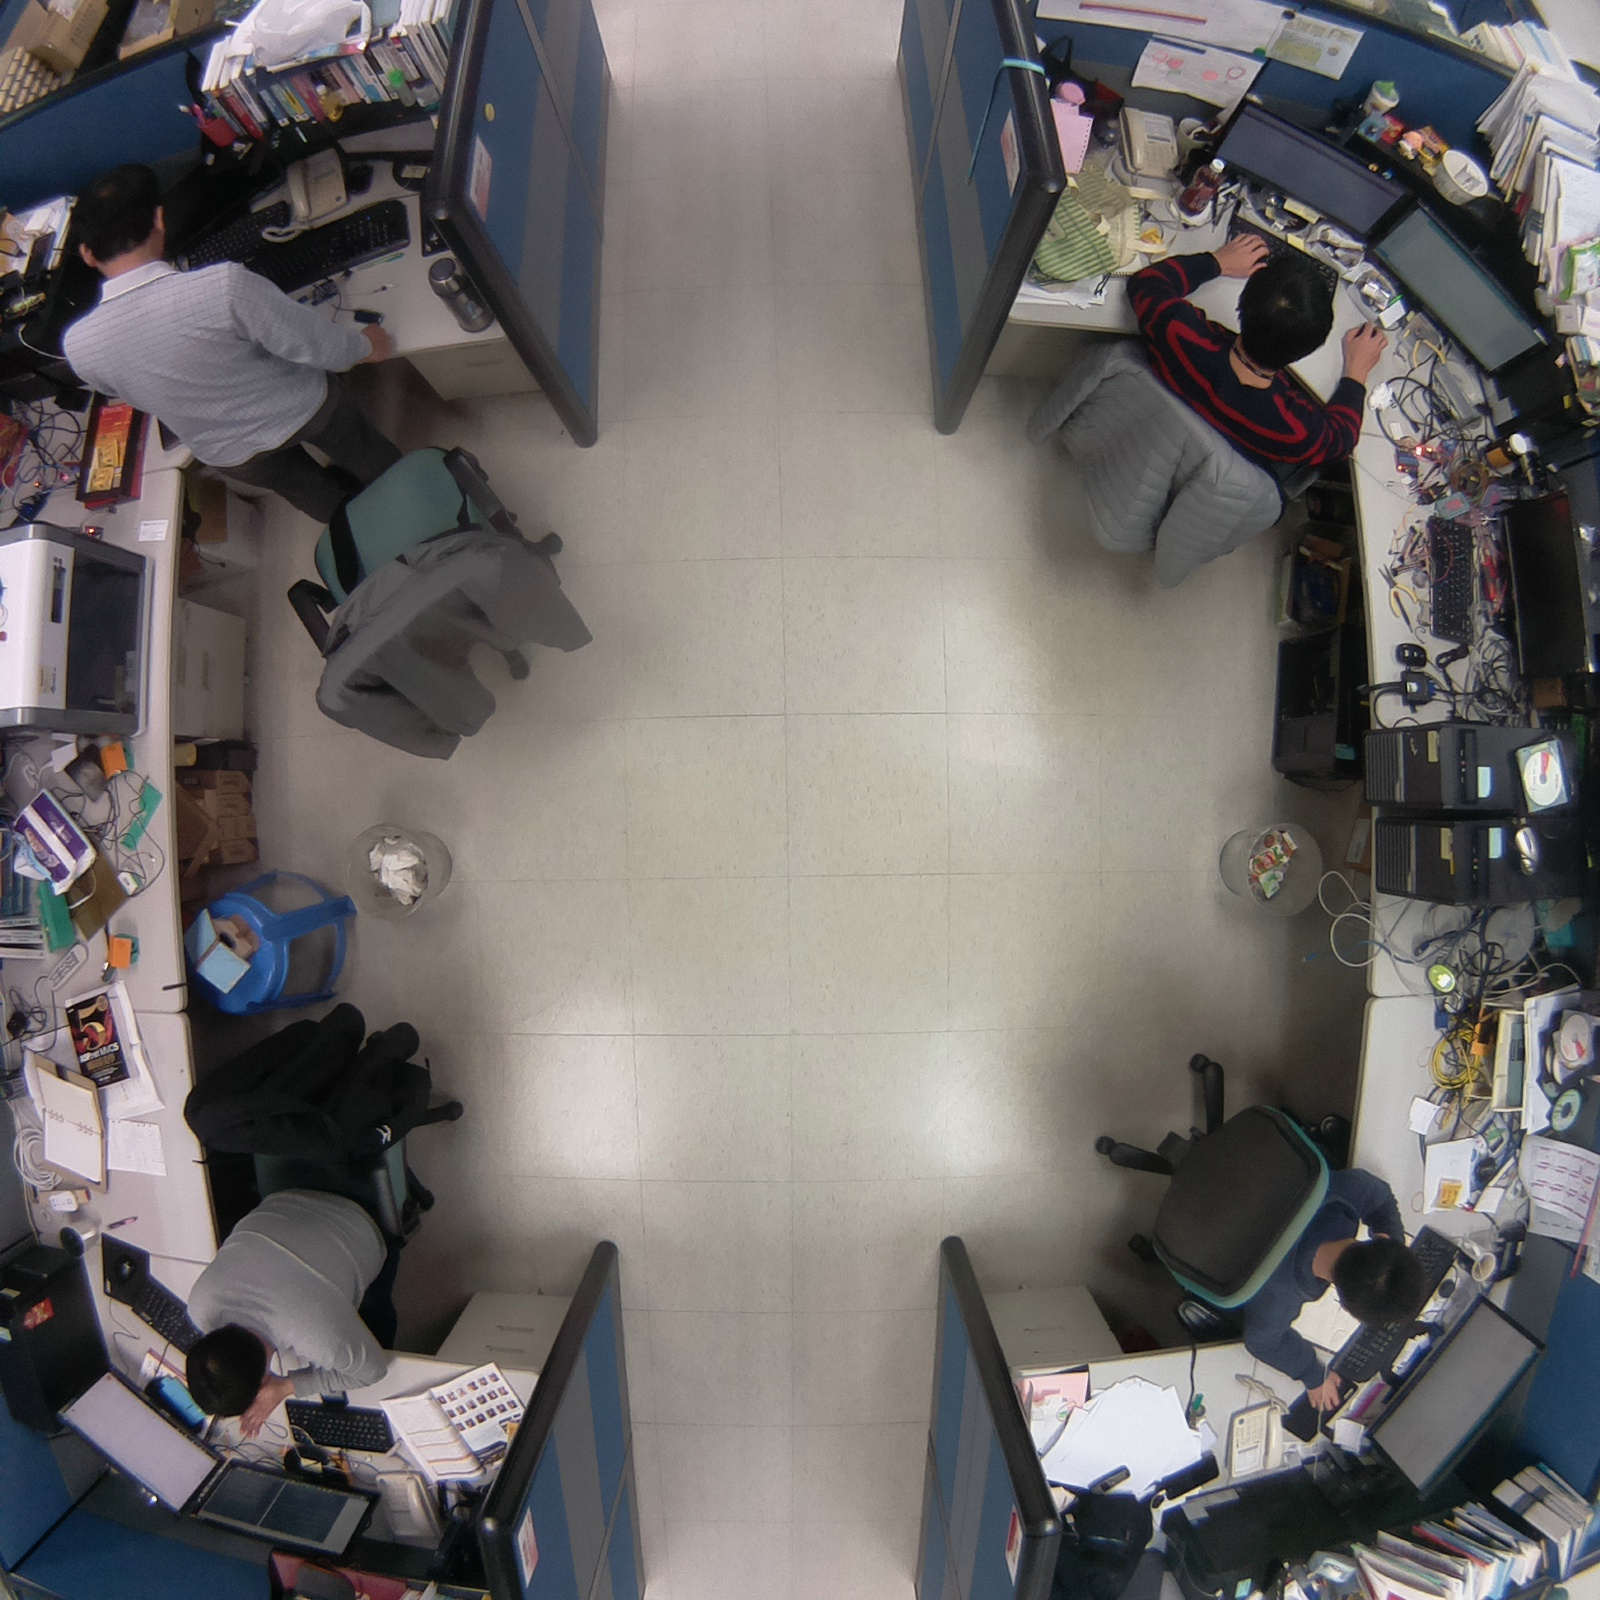head: (1236, 242, 1342, 370), (59, 161, 172, 276), (1323, 1227, 1425, 1334), (178, 1321, 270, 1431)
sitting: (1012, 223, 1390, 609), (171, 973, 481, 1437), (1078, 1037, 1444, 1417)
standing: (47, 163, 609, 775)
